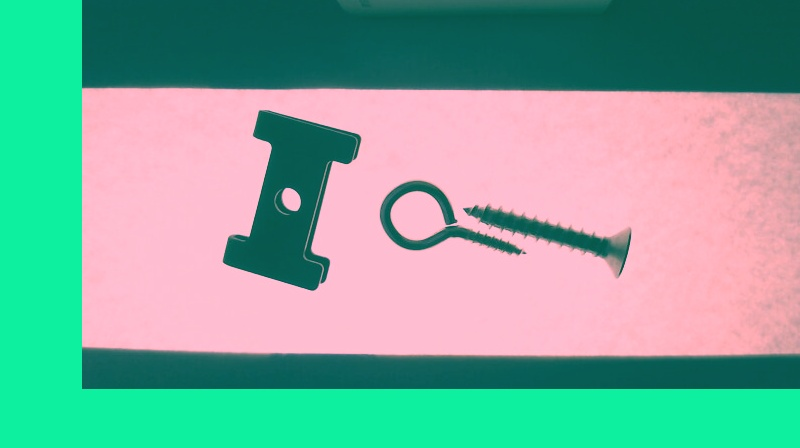O001: (376, 177, 529, 255)
O002: (219, 109, 360, 290)
S001: (459, 204, 631, 277)
